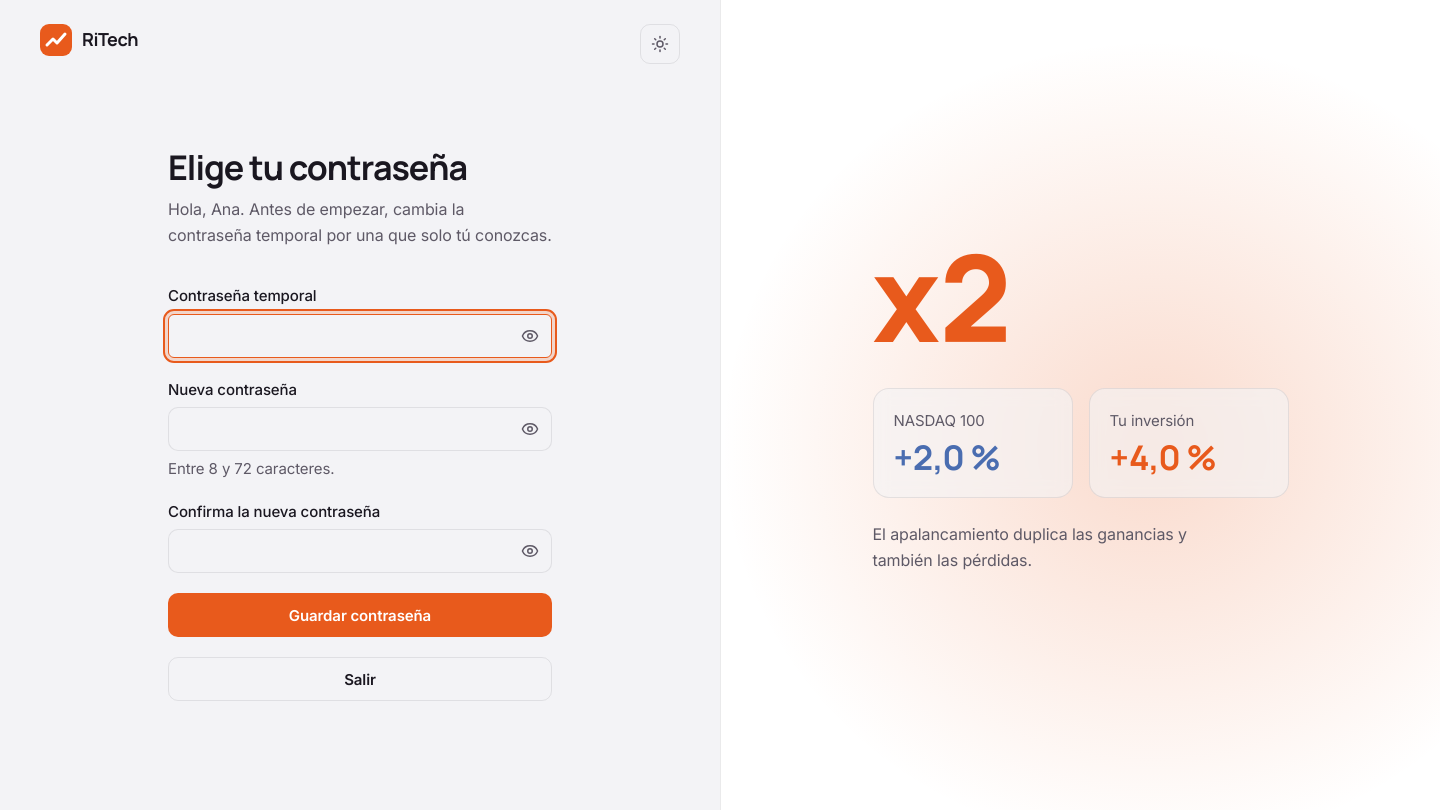
Test: ChangePassword › valida longitud y confirmación antes de llamar a la API
The image size is (1440, 810).
Type "temporal-123" into the password field labelled "Contraseña temporal" at (360, 336), box top-left (168, 314), bottom-right (552, 358)
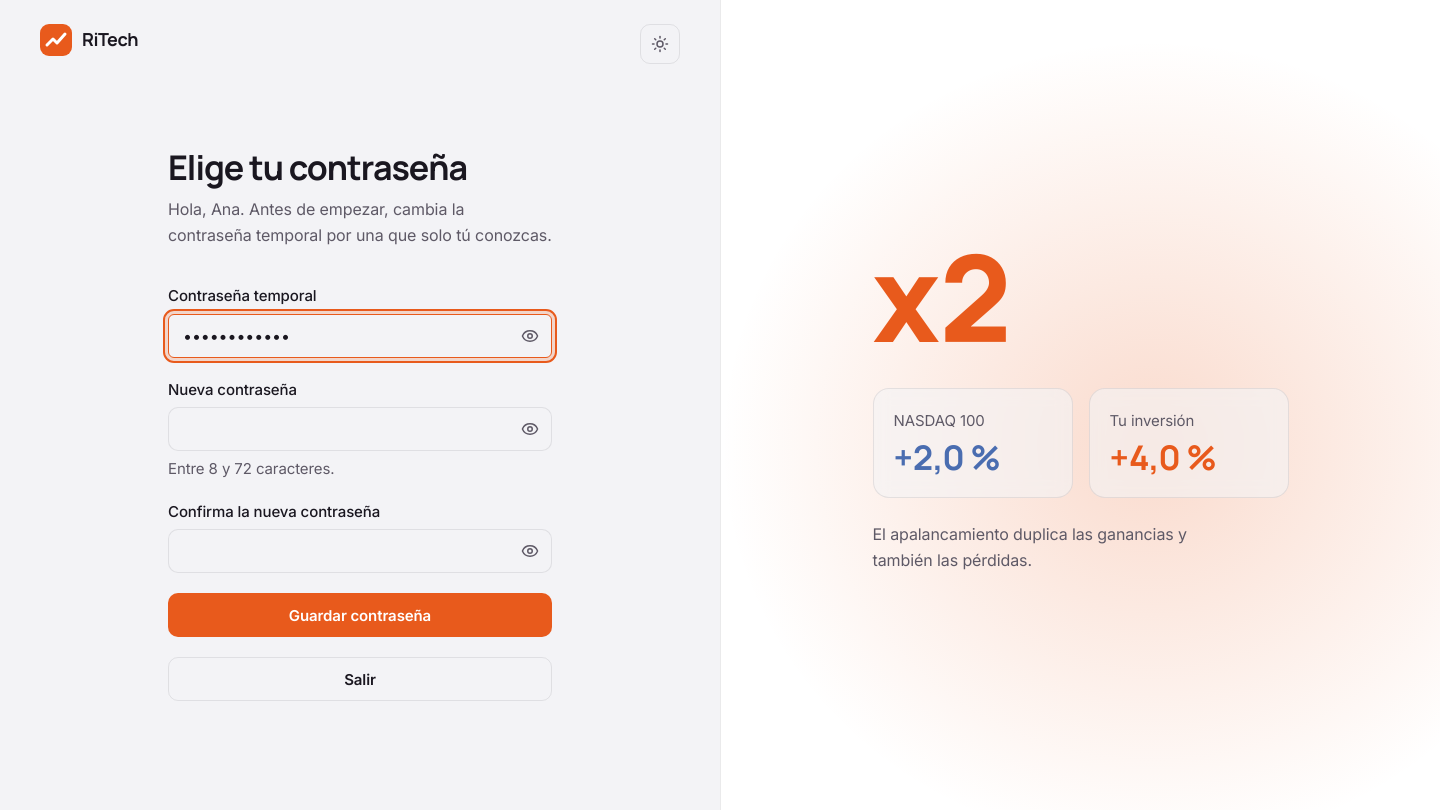
Type "corta" into the password field labelled "Nueva contraseña" at (360, 429), box top-left (168, 407), bottom-right (552, 451)
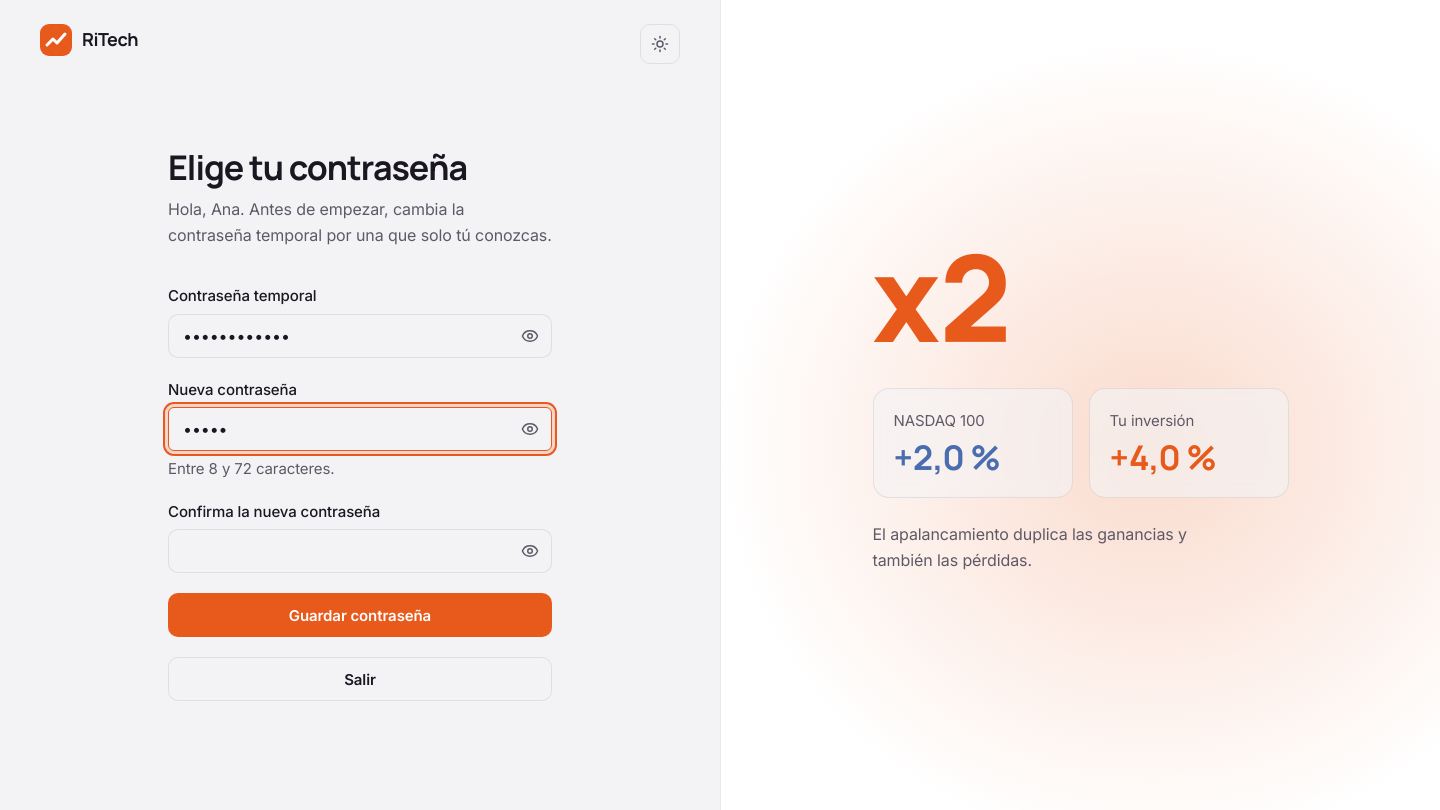
Type "otra" into the password field labelled "Confirma la nueva contraseña" at (360, 552), box top-left (168, 530), bottom-right (552, 574)
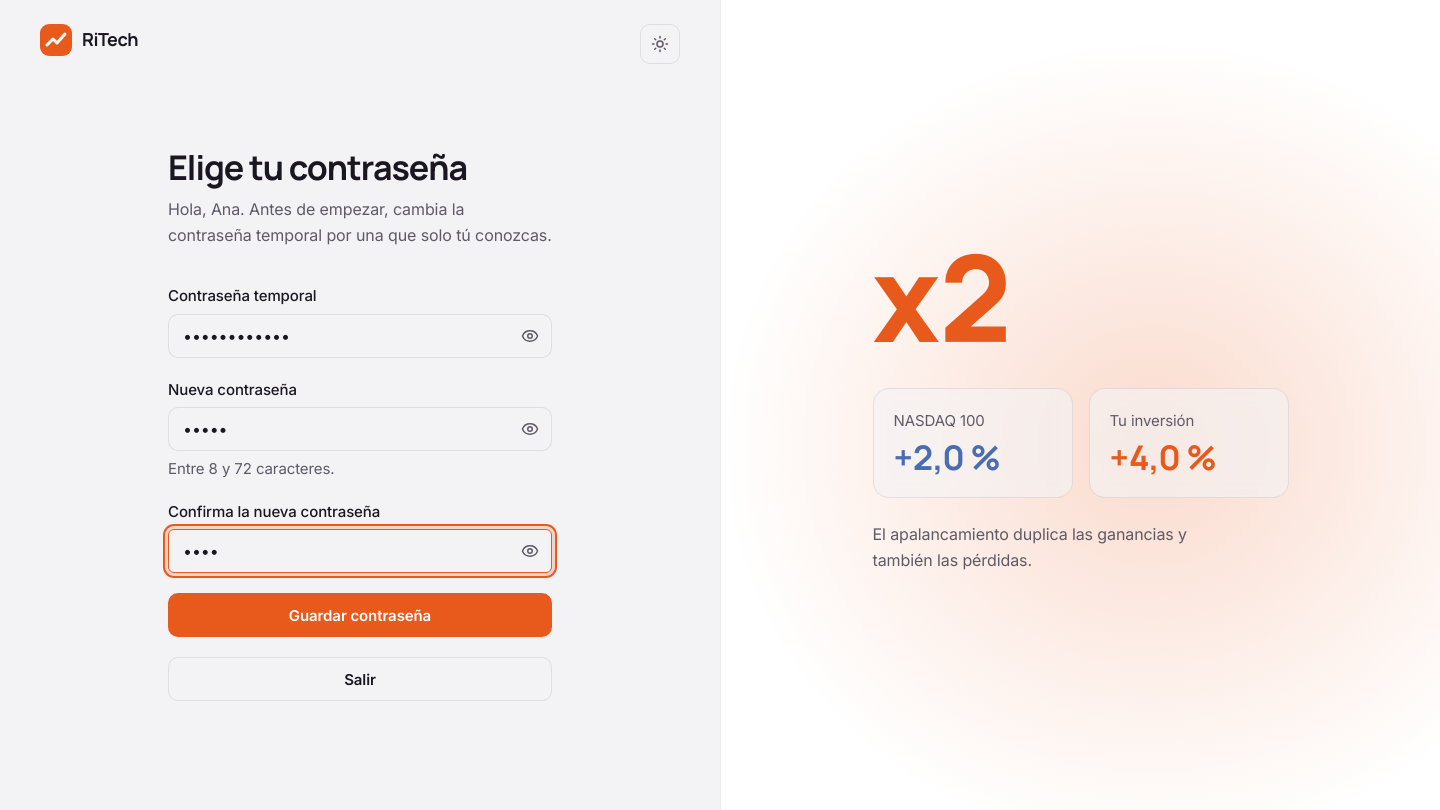
Click the button "Guardar contraseña" at (360, 616), box top-left (168, 594), bottom-right (552, 638)
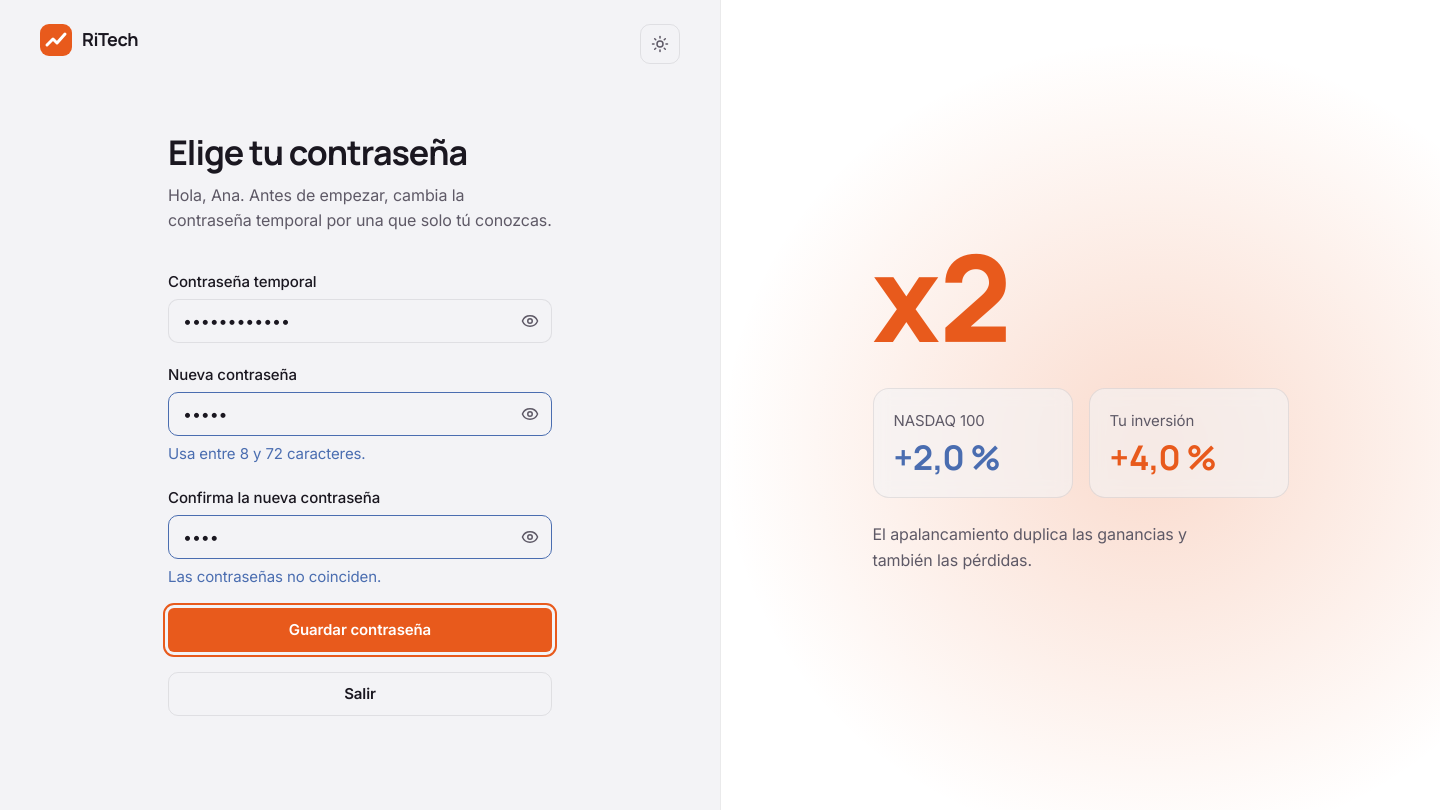
Now the text "Usa entre 8 y 72 caracteres." is shown, box top-left (168, 444), bottom-right (366, 463)
Now the text "Las contraseñas no coinciden." is shown, box top-left (168, 567), bottom-right (381, 586)
